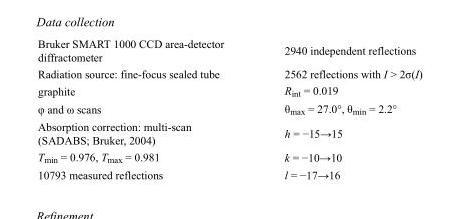table: (37, 36, 421, 180)
table column: (37, 36, 253, 180), (253, 36, 421, 180)
table row: (37, 117, 421, 147), (37, 36, 421, 65), (37, 147, 421, 166), (37, 81, 421, 99), (37, 99, 421, 117), (37, 65, 421, 81), (37, 166, 421, 180)
